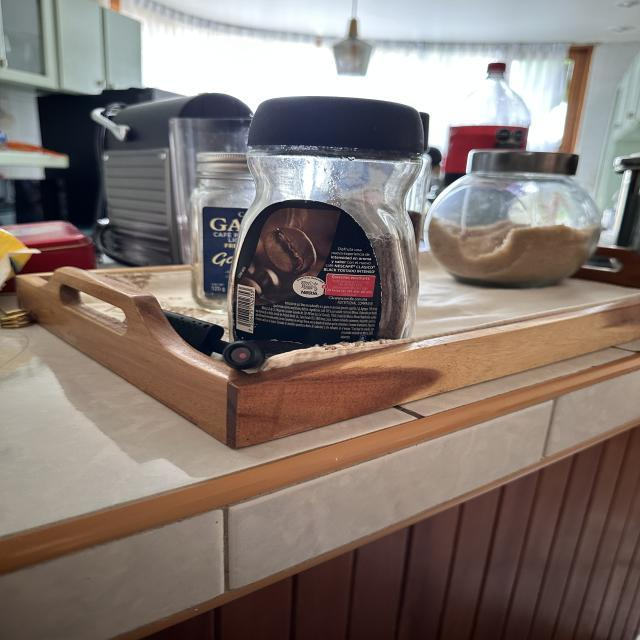hidden camera: (222, 341, 257, 369)
